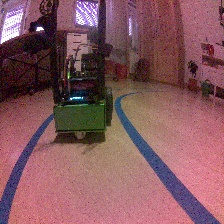rob: (51, 52, 113, 141)
